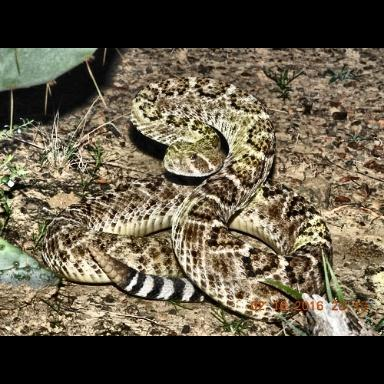snake: (27, 56, 352, 331)
